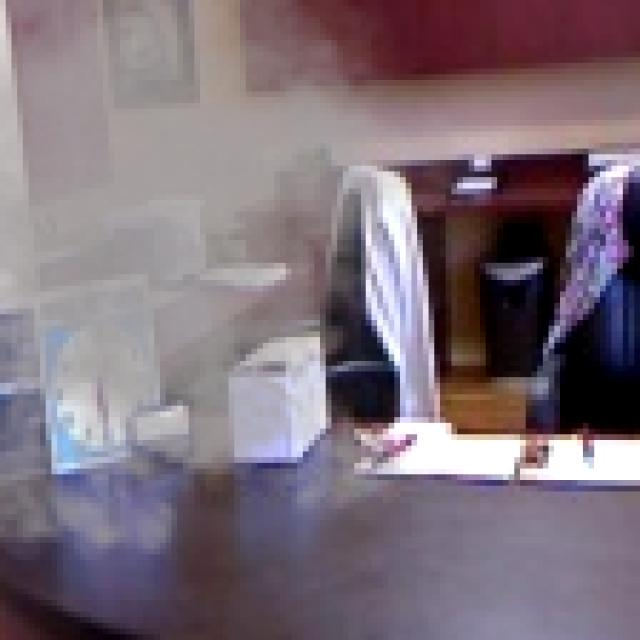smoke: (0, 0, 526, 600)
